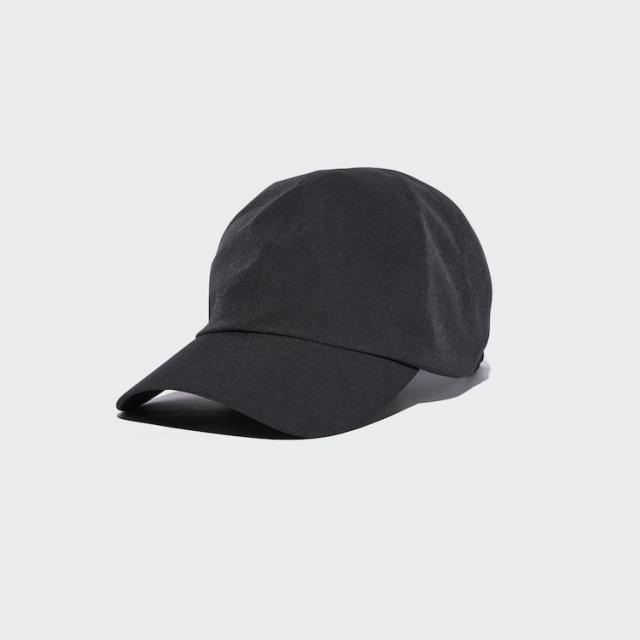Cap: (98, 149, 555, 443)
